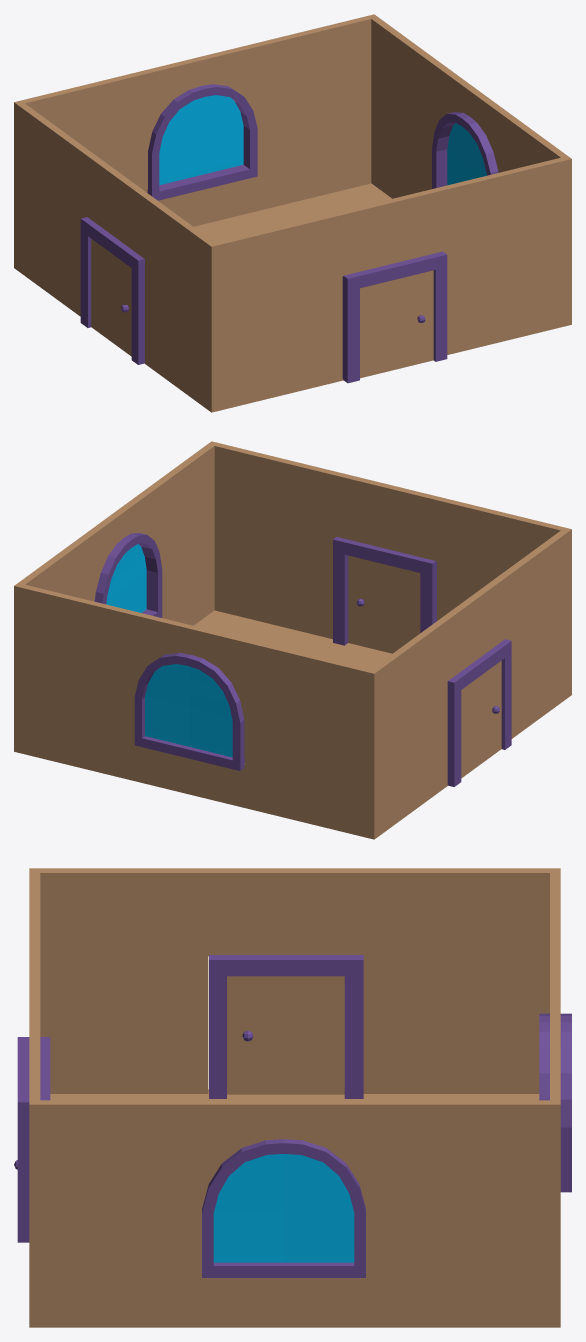
Rendered from CajaCasa 1.5 Interior 1.fbx.
3 views of the same model, one above another, from view 1: azimuth 30°, elevation 25°; view 2: azimuth 150°, elevation 25°; view 3: azimuth 270°, elevation 25° (orthographic). The views are drawn at different scales.
Visible parts, largest first — view 1: Ventana 1.024; view 2: Ventana 1.024; view 3: Ventana 1.024.
Part boxes in pixels (x1,y1,x2,y2): Ventana 1.024: (14,14,571,412); Ventana 1.024: (14,441,571,839); Ventana 1.024: (14,868,571,1327).
Bounding box in the file's own units: 1260 × 532 × 1206.
